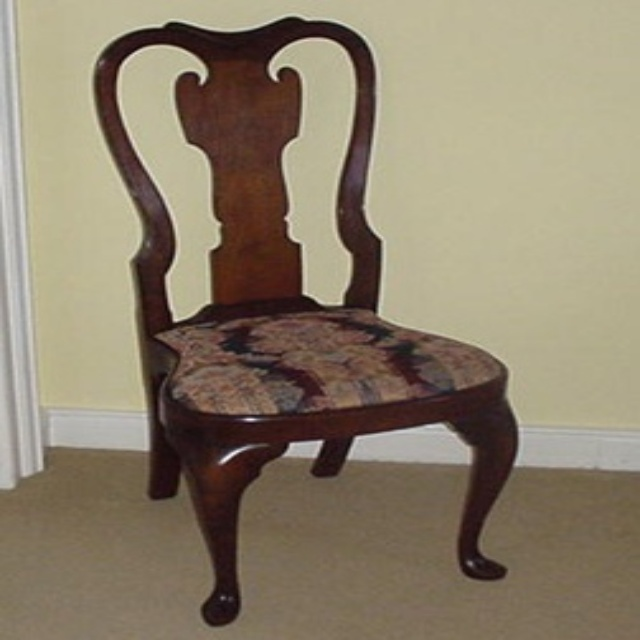obstacle: (94, 17, 516, 623)
